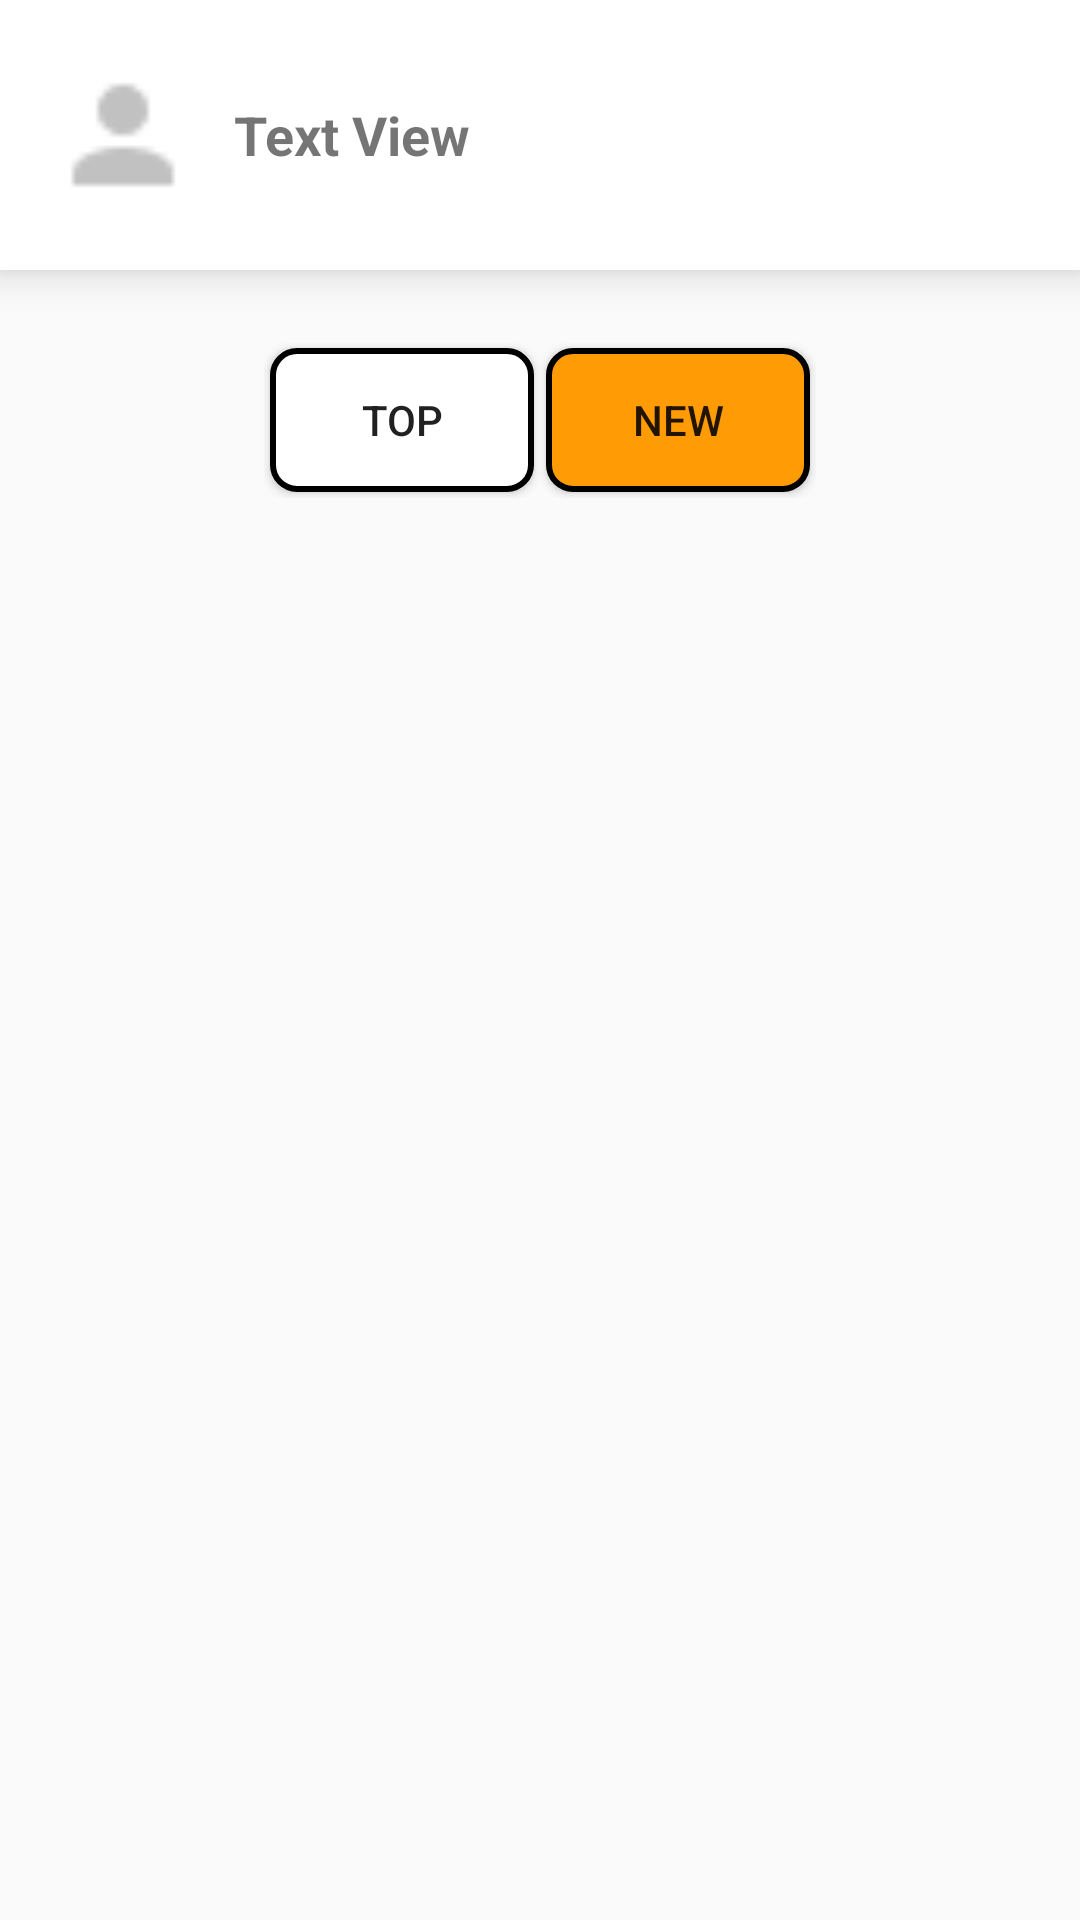

Where icons sit on this 1080w x 1920h app screen, as (x1, y1, x2, y2):
empty user: (72, 84, 174, 186)
